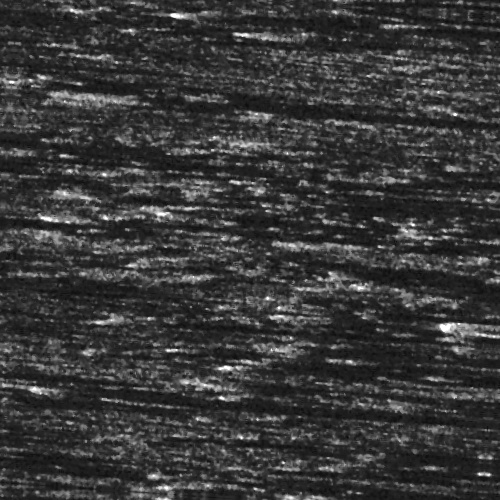object: (19, 222, 134, 233), (14, 101, 149, 110), (181, 377, 264, 390), (143, 12, 226, 23), (268, 339, 351, 350), (0, 397, 100, 406), (0, 161, 36, 180), (219, 28, 312, 35), (212, 136, 265, 143), (278, 496, 341, 500)
shadow: (0, 161, 324, 180), (33, 397, 434, 406), (81, 101, 425, 110), (185, 12, 442, 23), (77, 222, 326, 233), (0, 468, 108, 489), (310, 339, 475, 350), (266, 28, 440, 35), (222, 377, 306, 390), (0, 71, 145, 78), (239, 136, 326, 143), (0, 383, 98, 388), (310, 496, 395, 500)
